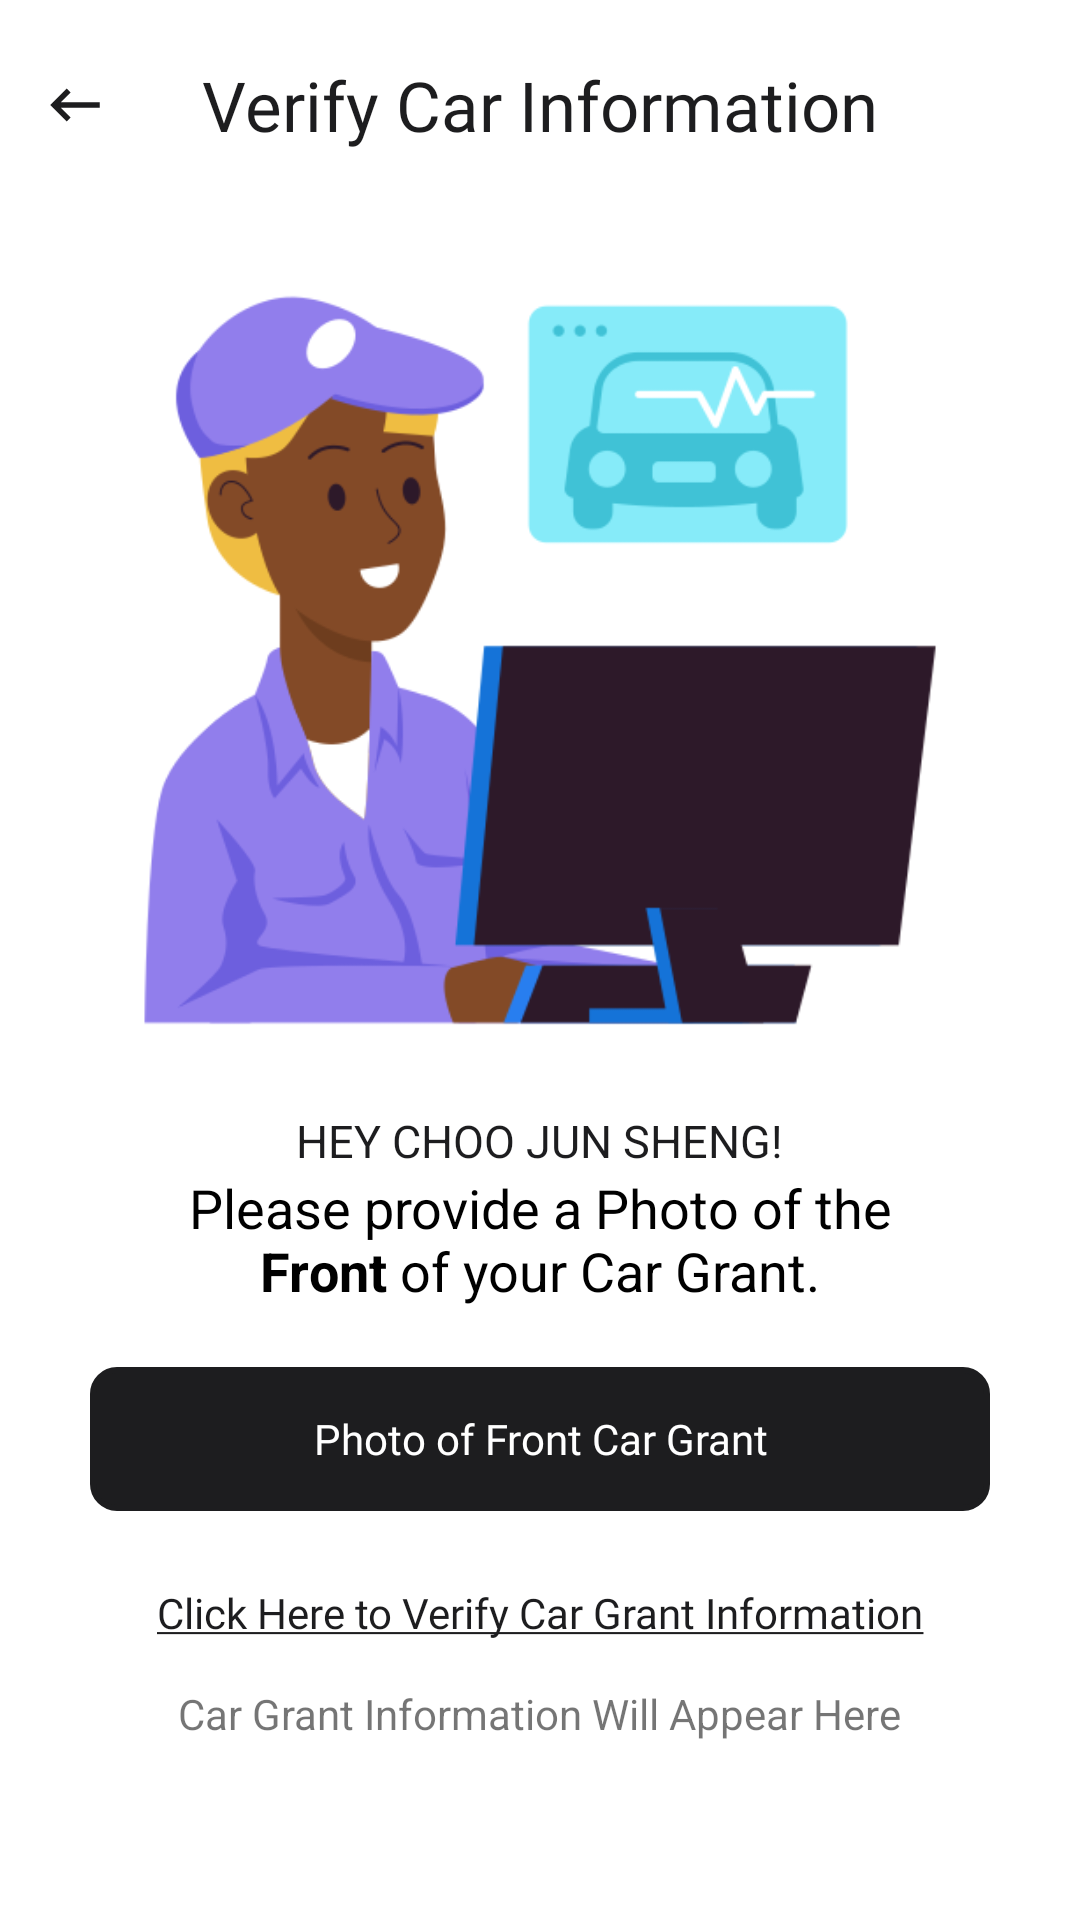

Icons on this 1080px×1920px Android screen, each with its box as detection(x1, y1, x2, y2):
keyboard backspace: detection(50, 88, 100, 122)
